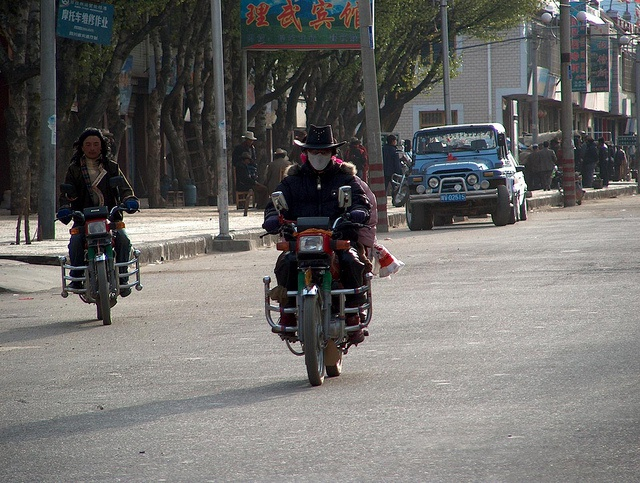non-vehicle: (256, 212, 375, 386), (53, 177, 142, 326)
